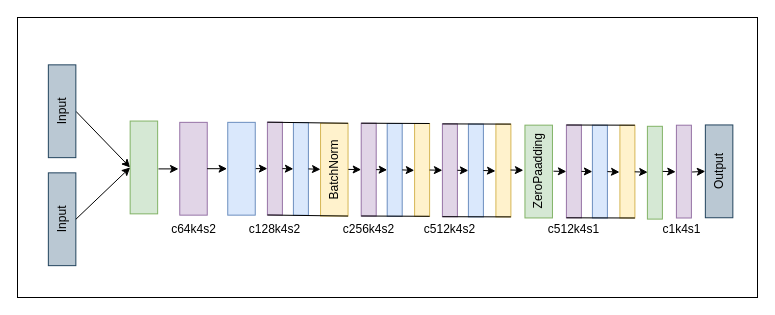
This 775x315 diagram has some shape labels left out. The centre of each missing label's shape, as x and y in pixels:
"Concatenate" goes at pixel 143 167.
"Conv2d" goes at pixel 193 168.
"LeakyReLu" goes at pixel 241 168.
